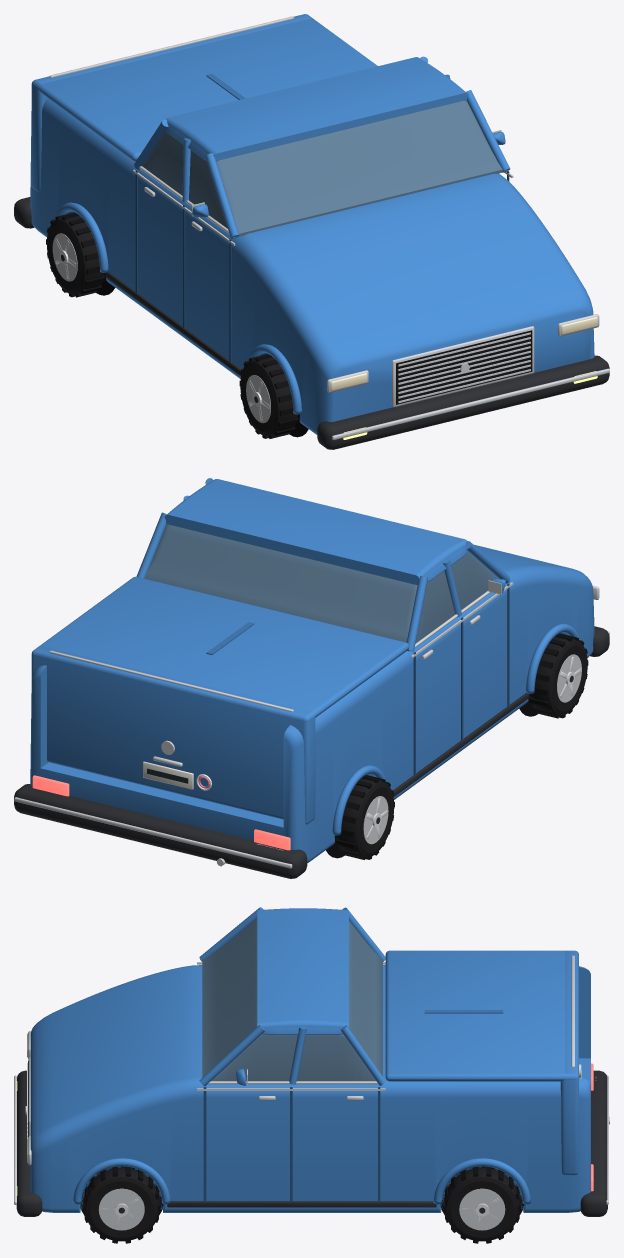
File: weekend.fbx
3 renders of one model, top to bottom at view 1: azimuth 30°, elevation 25°; view 2: azimuth 150°, elevation 25°; view 3: azimuth 270°, elevation 25°, orthographic. The views are drawn at different scales.
Visible parts, largest first — view 1: Body, Lid, Wheel_1, Wheel_3, LidFlap; view 2: Body, Lid, LidFlap, Wheel_3, Wheel_1; view 3: Body, Lid, Wheel_0, Wheel_2, LidFlap.
Part boxes in pixels (x1,y1,x2,y2): Body: [14, 56, 609, 449]; Lid: [31, 14, 377, 161]; Wheel_1: [46, 212, 105, 297]; Wheel_3: [239, 354, 298, 438]; LidFlap: [31, 14, 310, 192]; Body: [14, 478, 609, 878]; Lid: [31, 576, 409, 721]; LidFlap: [31, 646, 315, 824]; Wheel_3: [529, 633, 588, 718]; Wheel_1: [336, 775, 394, 859]; Body: [14, 907, 609, 1216]; Lid: [385, 950, 578, 1081]; Wheel_0: [443, 1166, 520, 1243]; Wheel_2: [83, 1166, 160, 1243]; LidFlap: [560, 951, 582, 1175].
Bounding box in the file's own units: 6.5 × 4.51 × 11.39.
